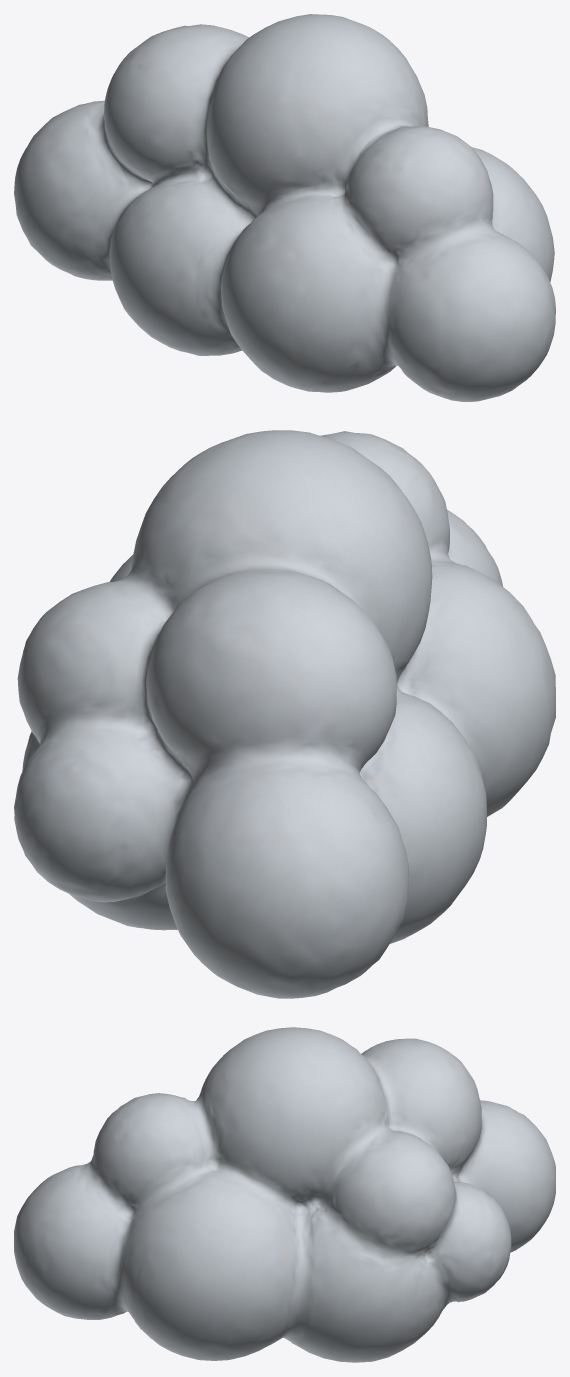
File: tripo_convert_9f8ea70e-3d9c-4b8b-9bbf-bddc127cb882.fbx
3 views of the same model, one above another, from view 1: azimuth 30°, elevation 25°; view 2: azimuth 150°, elevation 25°; view 3: azimuth 270°, elevation 25° (orthographic). The views are drawn at different scales.
Parts seen in each view (by area): view 1: tripo_node_9f8ea70e; view 2: tripo_node_9f8ea70e; view 3: tripo_node_9f8ea70e.
Part boxes in pixels (x1,y1,x2,y2): tripo_node_9f8ea70e: (14, 14, 555, 401); tripo_node_9f8ea70e: (14, 430, 555, 998); tripo_node_9f8ea70e: (14, 1027, 555, 1362).
Size of the model in its own units: 0.6855 by 0.6035 by 0.998.
Materials: 1 (1 with a texture image).
